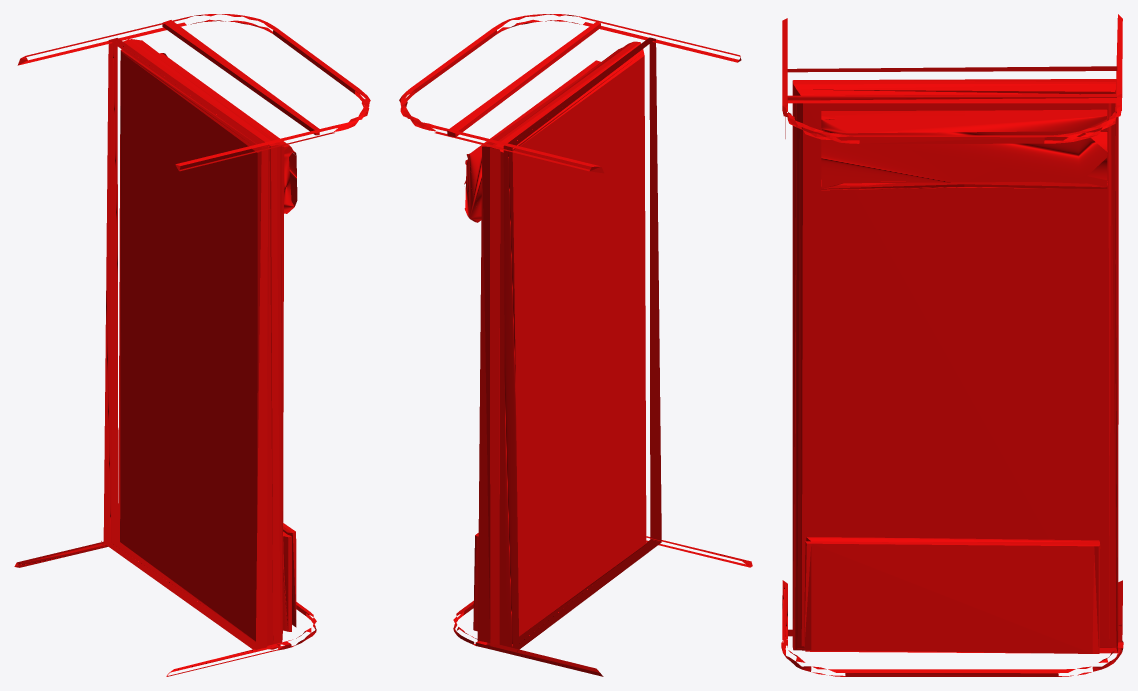
3 renders of one model, left to right at view 1: azimuth 30°, elevation 25°; view 2: azimuth 150°, elevation 25°; view 3: azimuth 270°, elevation 25°, orthographic. The views are drawn at different scales.
Parts seen in each view (by area): view 1: Renderer Node; view 2: Renderer Node; view 3: Renderer Node.
Boxes of the visible parts, x1,y1,x2,y2 form: Renderer Node: (14, 14, 370, 676); Renderer Node: (399, 14, 752, 676); Renderer Node: (781, 14, 1123, 676).
Size of the model in its own units: 0.3786 by 0.8099 by 0.4377.
Materials: 1 (1 with a texture image).
